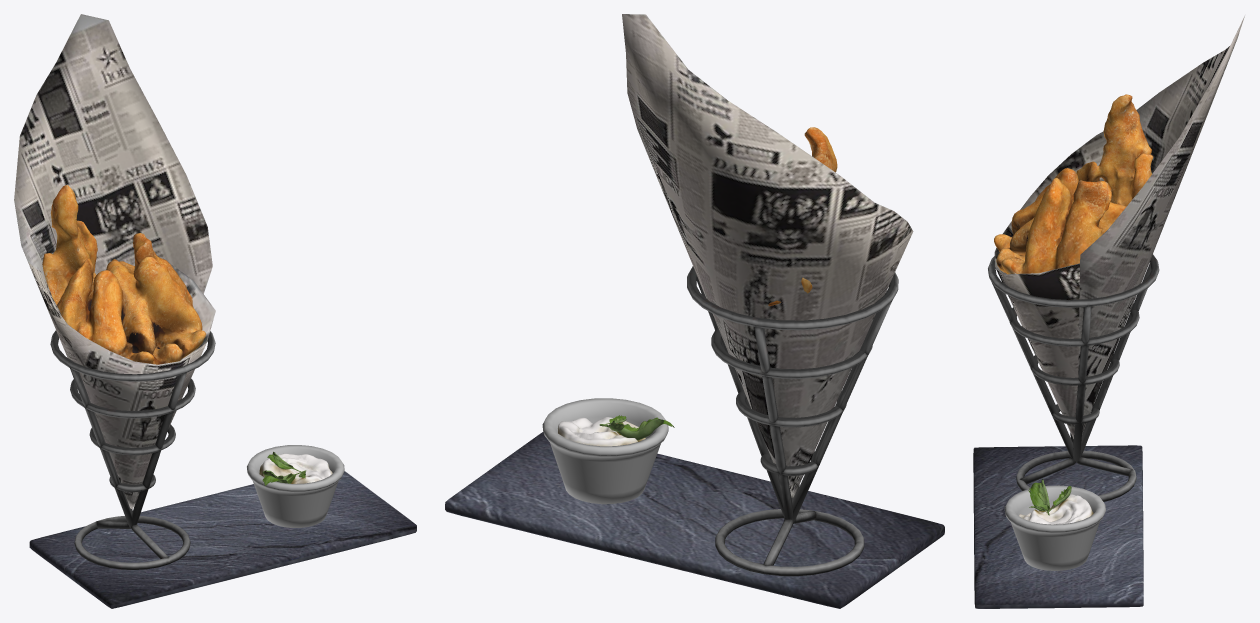
Rendered from fingers-draco.glb.
The picture shows the model from 3 angles, left to right: view 1: azimuth 30°, elevation 25°; view 2: azimuth 150°, elevation 25°; view 3: azimuth 270°, elevation 25°; orthographic projection. The views are drawn at different scales.
Visible parts, largest first — view 1: Cone001.002, Plane001.002, finguers3.001, Circle002.002, Cone003.002, Group3309.002, Group7233.002; view 2: Cone001.002, Plane001.002, Circle002.002, Cone003.002, Group3309.002, finguers3.001, Group7233.002; view 3: Cone001.002, Plane001.002, finguers3.001, Circle002.002, Cone003.002, Group3309.002, Group7233.002.
Boxes of the visible parts, bbox=[...] form: Cone001.002: bbox=[14, 14, 215, 508]; Plane001.002: bbox=[29, 471, 416, 608]; finguers3.001: bbox=[42, 185, 206, 364]; Circle002.002: bbox=[50, 330, 215, 569]; Cone003.002: bbox=[247, 445, 344, 527]; Group3309.002: bbox=[259, 453, 332, 483]; Group7233.002: bbox=[262, 451, 306, 485]; Cone001.002: bbox=[622, 14, 913, 497]; Plane001.002: bbox=[445, 432, 944, 608]; Circle002.002: bbox=[687, 266, 898, 576]; Cone003.002: bbox=[542, 398, 668, 504]; Group3309.002: bbox=[558, 417, 645, 446]; finguers3.001: bbox=[768, 127, 837, 306]; Group7233.002: bbox=[599, 415, 674, 440]; Cone001.002: bbox=[994, 16, 1244, 438]; Plane001.002: bbox=[973, 445, 1143, 608]; finguers3.001: bbox=[994, 94, 1153, 274]; Circle002.002: bbox=[988, 254, 1159, 501]; Cone003.002: bbox=[1004, 485, 1105, 570]; Group3309.002: bbox=[1019, 494, 1093, 524]; Group7233.002: bbox=[1028, 478, 1071, 515].
Size of the model in its own units: 0.9011 by 1.25 by 0.6269.
2 materials, 2 textured.
